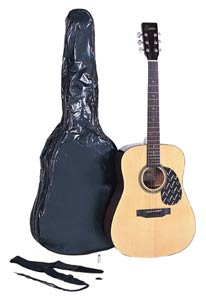guitar: (104, 22, 197, 258)
